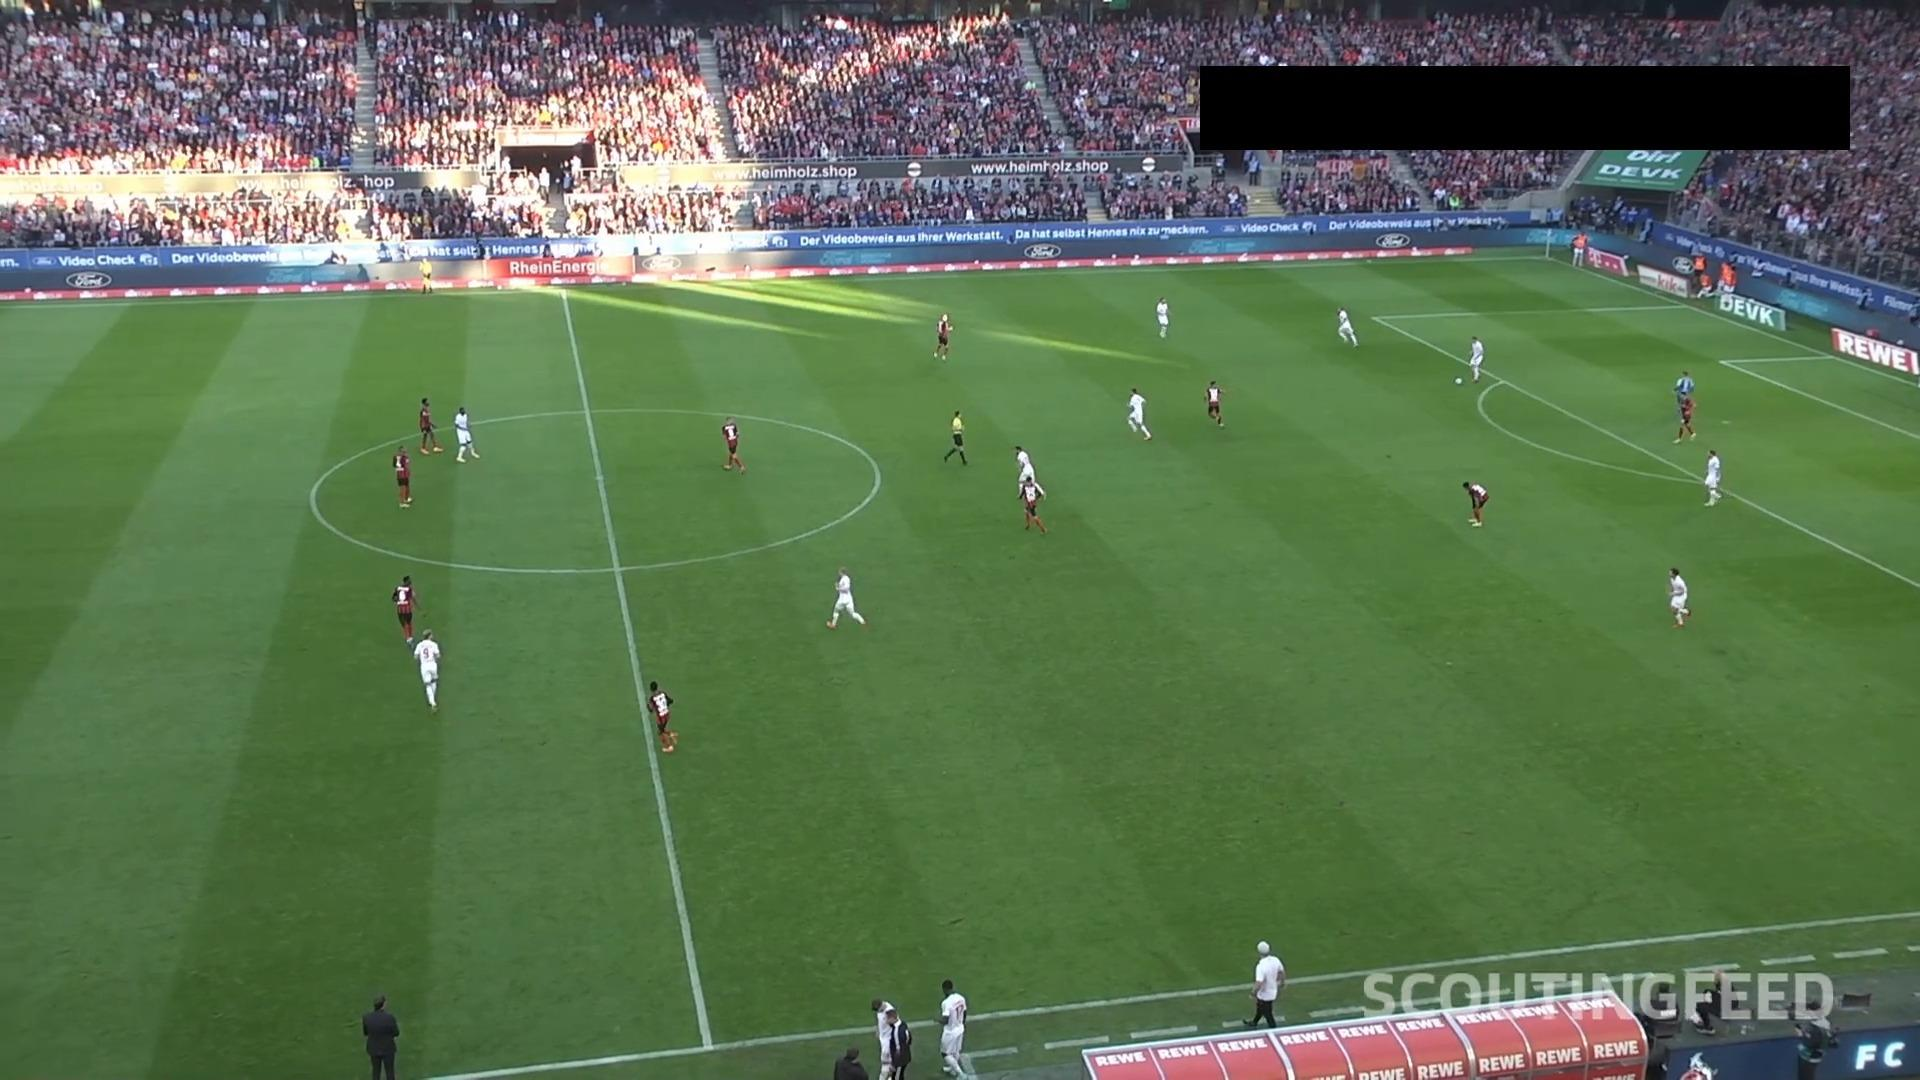ball: (1456, 376, 1464, 385)
